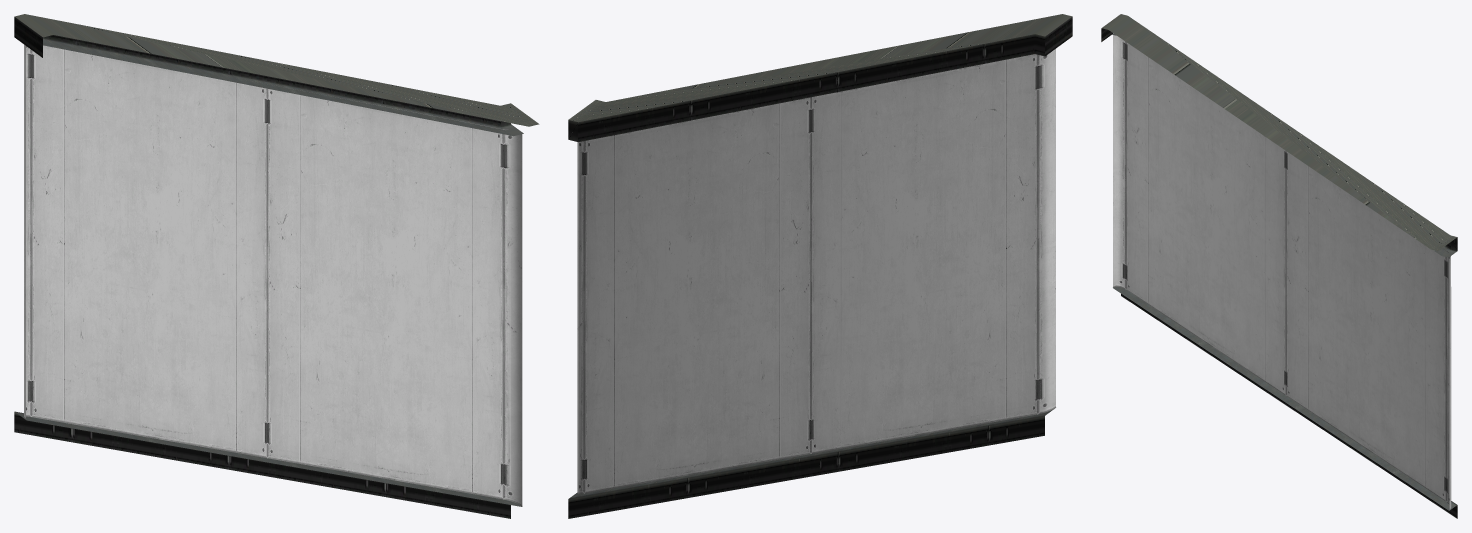
File: Neon_Wall_Stairs_Sb.FBX
3 views of the same model, side by side, from view 1: azimuth 30°, elevation 25°; view 2: azimuth 150°, elevation 25°; view 3: azimuth 330°, elevation 25° (orthographic). The views are drawn at different scales.
Parts seen in each view (by area): view 1: Neon_Wall_Stairs_Sb; view 2: Neon_Wall_Stairs_Sb; view 3: Neon_Wall_Stairs_Sb.
Part boxes in pixels (x1,y1,x2,y2): Neon_Wall_Stairs_Sb: (14, 14, 539, 518); Neon_Wall_Stairs_Sb: (568, 14, 1072, 518); Neon_Wall_Stairs_Sb: (1101, 14, 1457, 518).
Bounding box in the file's own units: 5 × 6 × 0.5.
